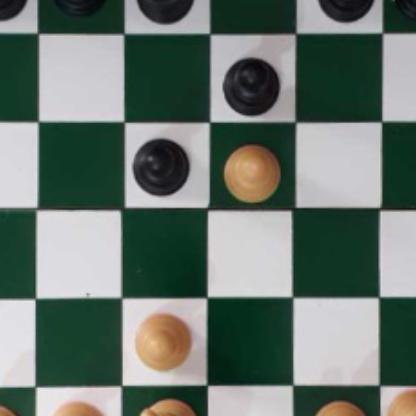black-knight: (123, 0, 199, 16)
black-pawn: (221, 50, 282, 115), (132, 135, 190, 193), (48, 0, 112, 19), (317, 0, 373, 21), (0, 0, 25, 19), (395, 0, 416, 17)
white-knight: (139, 395, 201, 416)
white-pawn: (132, 308, 193, 371), (221, 141, 282, 199), (45, 397, 106, 416), (308, 399, 368, 416), (388, 388, 416, 416), (0, 402, 21, 416)
